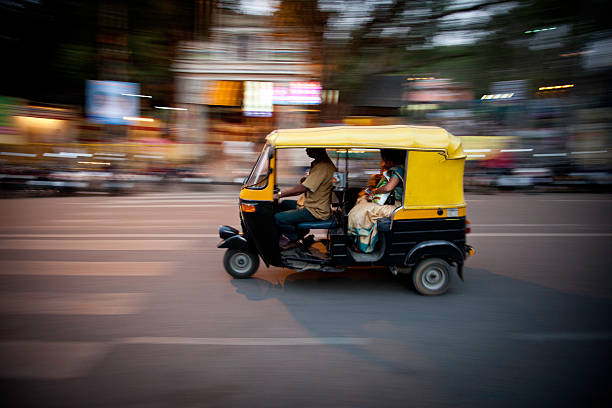threewheel: (217, 126, 475, 296)
